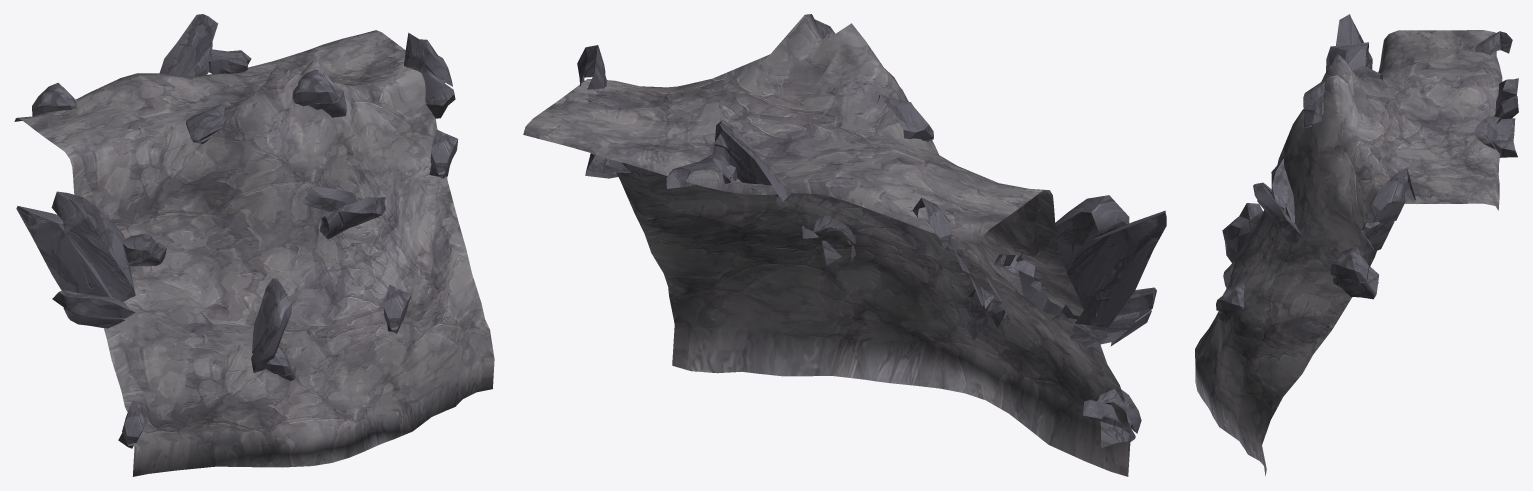
Rendered from Ground wide 1.fbx.
The picture shows the model from 3 angles, left to right: view 1: azimuth 30°, elevation 25°; view 2: azimuth 150°, elevation 25°; view 3: azimuth 270°, elevation 25°; orthographic projection. The views are drawn at different scales.
Parts seen in each view (by area): view 1: GroundWide1; view 2: GroundWide1; view 3: GroundWide1.
Part boxes in pixels (x1=…): GroundWide1: x1=14, y1=14, x2=494, y2=476; GroundWide1: x1=523, y1=14, x2=1166, y2=476; GroundWide1: x1=1195, y1=14, x2=1518, y2=476.
Bounding box in the file's own units: 12.43 × 9.05 × 7.88.
3 materials, 3 textured.
